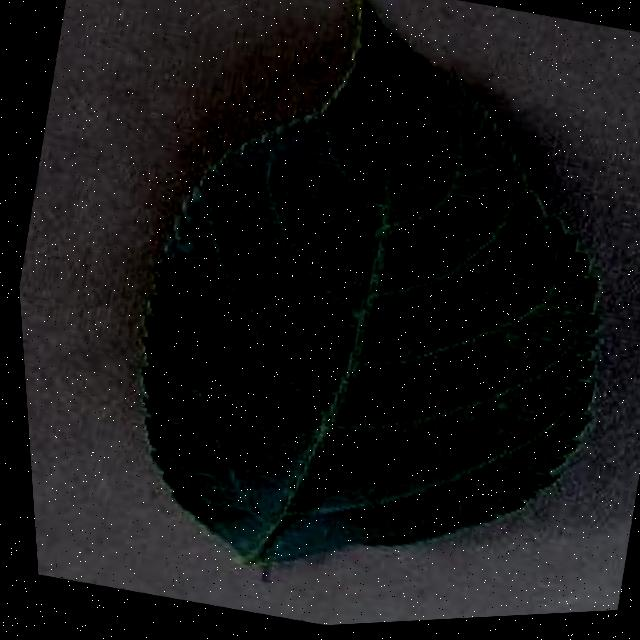healthy: (52, 0, 640, 637)
